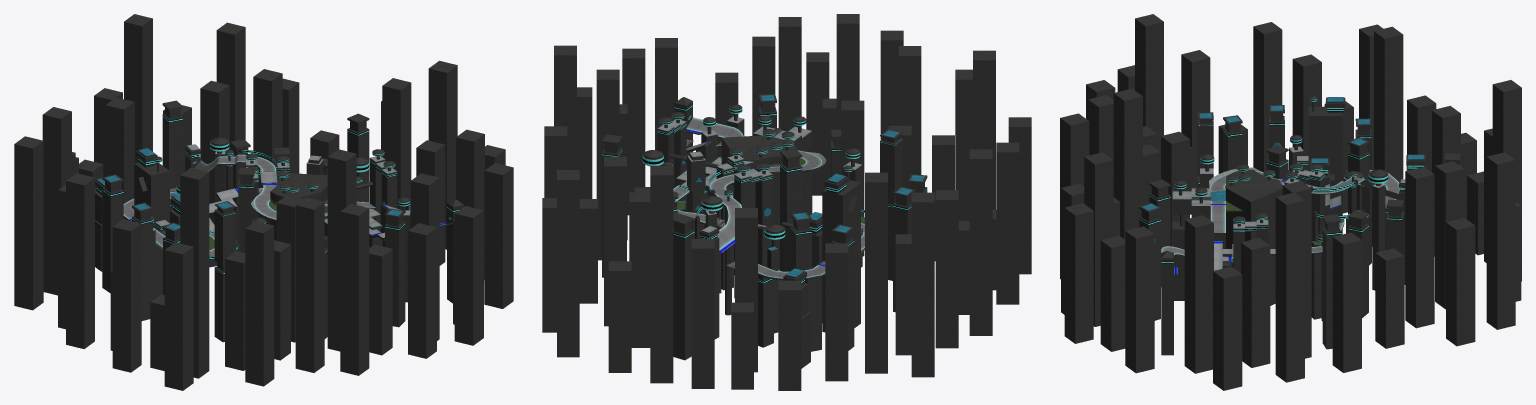
The picture shows the model from 3 angles, left to right: view 1: azimuth 30°, elevation 25°; view 2: azimuth 150°, elevation 25°; view 3: azimuth 270°, elevation 25°; orthographic projection. The views are drawn at different scales.
Visible parts, largest first — view 1: polygon9.002, polygon7.004, polygon12.003, polygon6.004, polygon1.003; view 2: polygon9.002, polygon7.004, polygon12.003, polygon6.004, polygon10.002, polygon1.003; view 3: polygon9.002, polygon12.003, polygon6.004, polygon7.004, polygon1.003.
Part boxes in pixels (<box>): polygon9.002: <box>14,14,513,390</box>; polygon7.004: <box>123,154,446,256</box>; polygon12.003: <box>96,115,460,274</box>; polygon6.004: <box>153,144,410,237</box>; polygon1.003: <box>97,148,410,230</box>; polygon9.002: <box>542,14,1031,390</box>; polygon7.004: <box>673,117,864,278</box>; polygon12.003: <box>602,105,927,283</box>; polygon6.004: <box>657,116,862,271</box>; polygon10.002: <box>643,106,860,281</box>; polygon1.003: <box>677,95,924,277</box>; polygon9.002: <box>1060,14,1521,390</box>; polygon12.003: <box>1139,98,1461,263</box>; polygon6.004: <box>1172,146,1405,270</box>; polygon7.004: <box>1161,170,1400,255</box>; polygon1.003: <box>1142,97,1424,244</box>.
Size of what is drawn, in the model's own units: 204258 by 93695 by 195218.
Materials: 12 (12 with a texture image).
